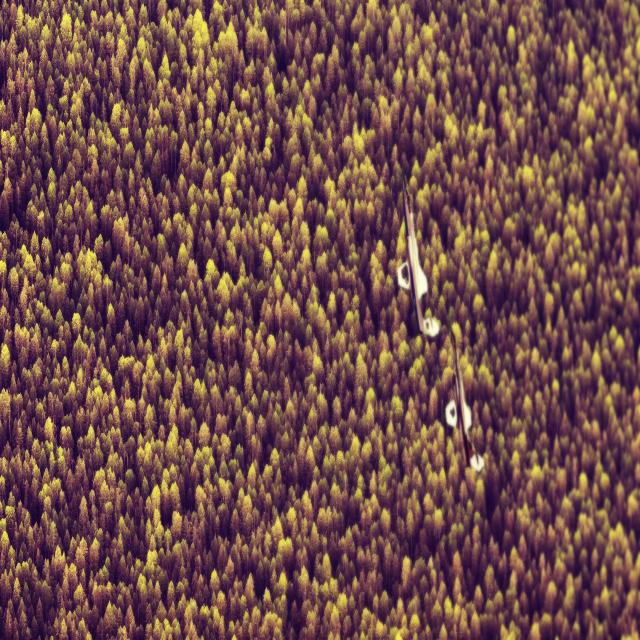airplane: (396, 173, 439, 338), (446, 328, 484, 474)
